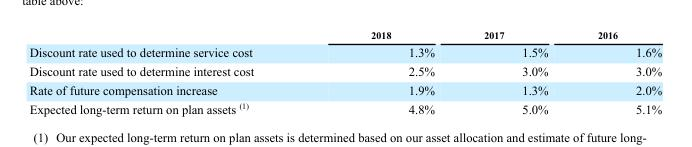table: (28, 29, 661, 116)
table column: (28, 29, 311, 116), (311, 29, 458, 116), (458, 29, 572, 116), (572, 29, 661, 116)
table column header: (28, 29, 661, 42)
table row: (28, 42, 661, 61), (28, 61, 661, 80), (28, 80, 661, 98), (28, 98, 661, 116), (28, 29, 661, 42)
